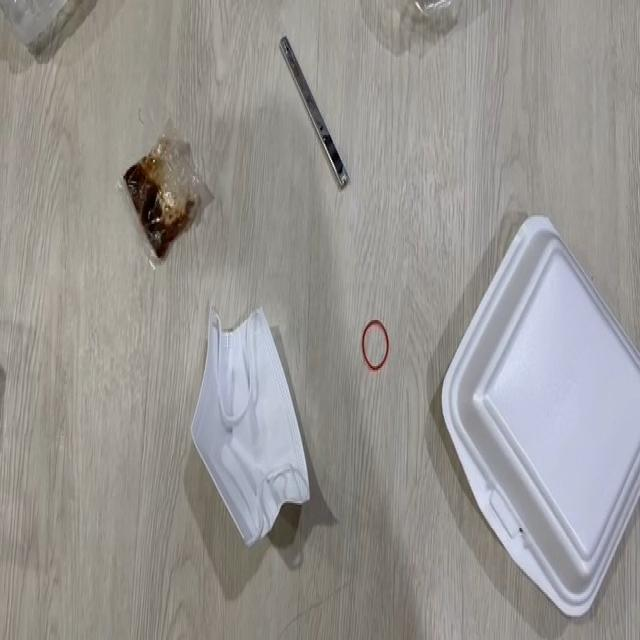Anorganik: (434, 206, 640, 611), (273, 34, 372, 197), (0, 0, 101, 69), (357, 316, 396, 376)
B3: (189, 306, 314, 564), (112, 111, 214, 275)
